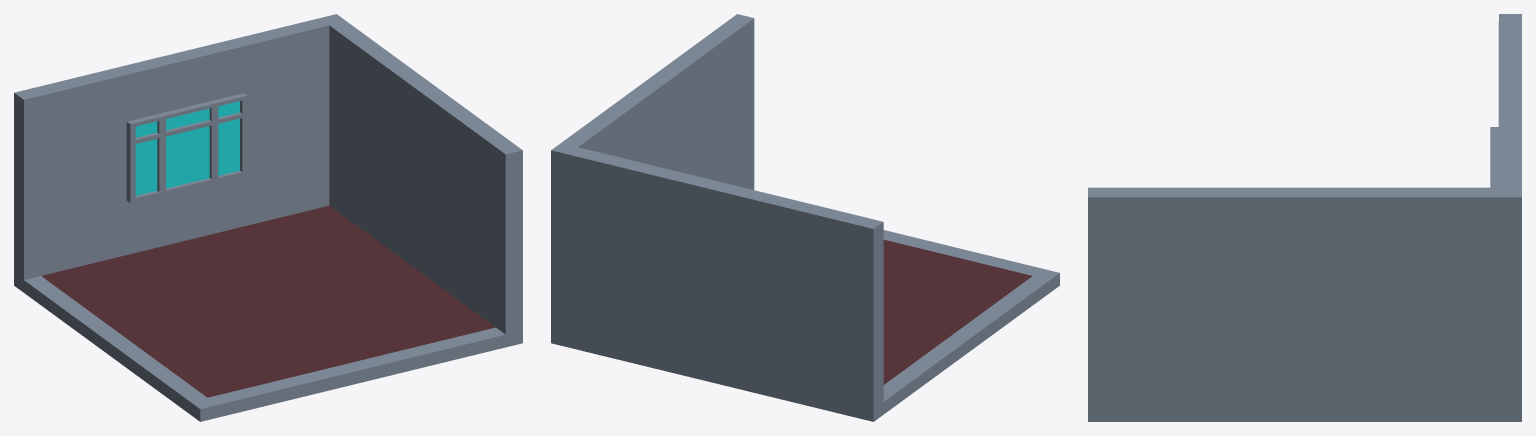
File: ApartmentPlayerHubWalled.fbx
3 renders of one model, left to right at view 1: azimuth 30°, elevation 25°; view 2: azimuth 150°, elevation 25°; view 3: azimuth 270°, elevation 25°, orthographic. The views are drawn at different scales.
Visible parts, largest first — view 1: Room.001, Room, Room.002; view 2: Room.001, Room, Room.002; view 3: Room.002, Room.001, Room.
Boxes of the visible parts, x1=… form: Room.001: x1=14, y1=14, x2=345, y2=279; Room: x1=14, y1=205, x2=522, y2=421; Room.002: x1=329, y1=21, x2=522, y2=334; Room.001: x1=551, y1=143, x2=883, y2=408; Room: x1=551, y1=230, x2=1059, y2=421; Room.002: x1=561, y1=14, x2=754, y2=189; Room.002: x1=1088, y1=187, x2=1498, y2=406; Room.001: x1=1490, y1=14, x2=1521, y2=406; Room: x1=1088, y1=407, x2=1521, y2=421.
Size of the model in its own units: 7099 by 4058 by 7099.
